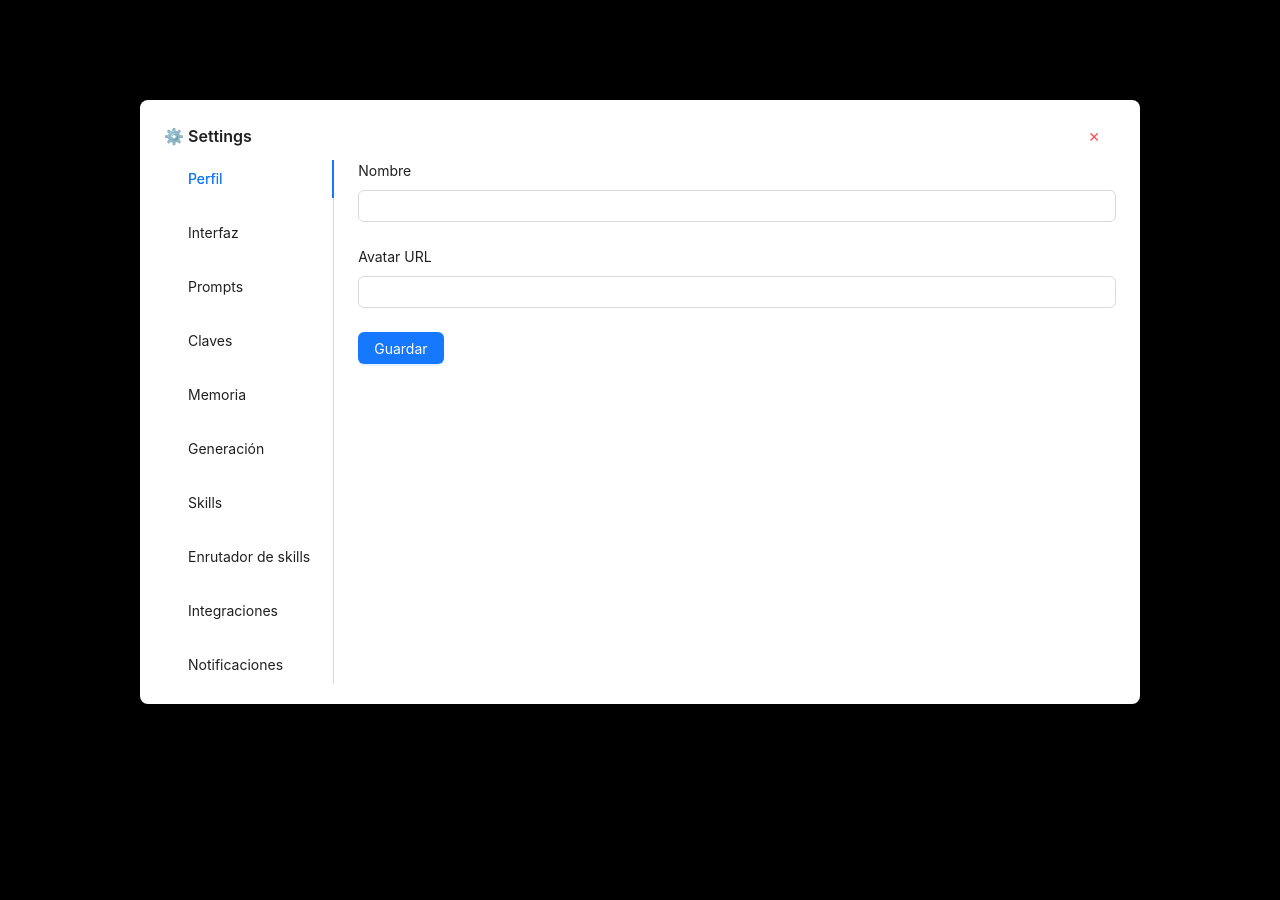
Test: SettingsDialog › shows journal_prompt when opening the Journal sub-tab
This screenshot has width=1280, height=900.
Click the tab "Prompts": x=216, y=287 [188,276,243,298]
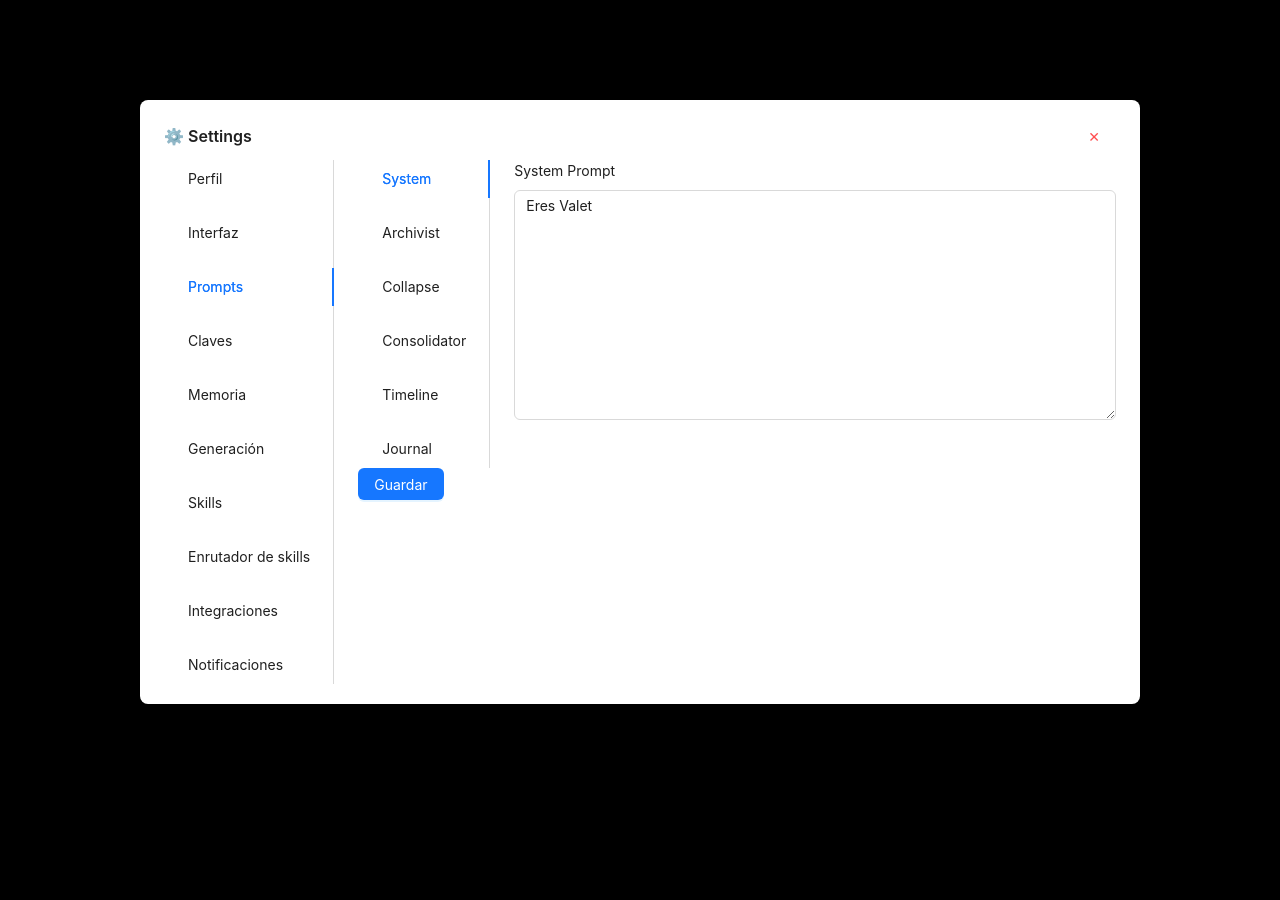
Click the tab "Journal": x=407, y=449 [382,438,432,460]
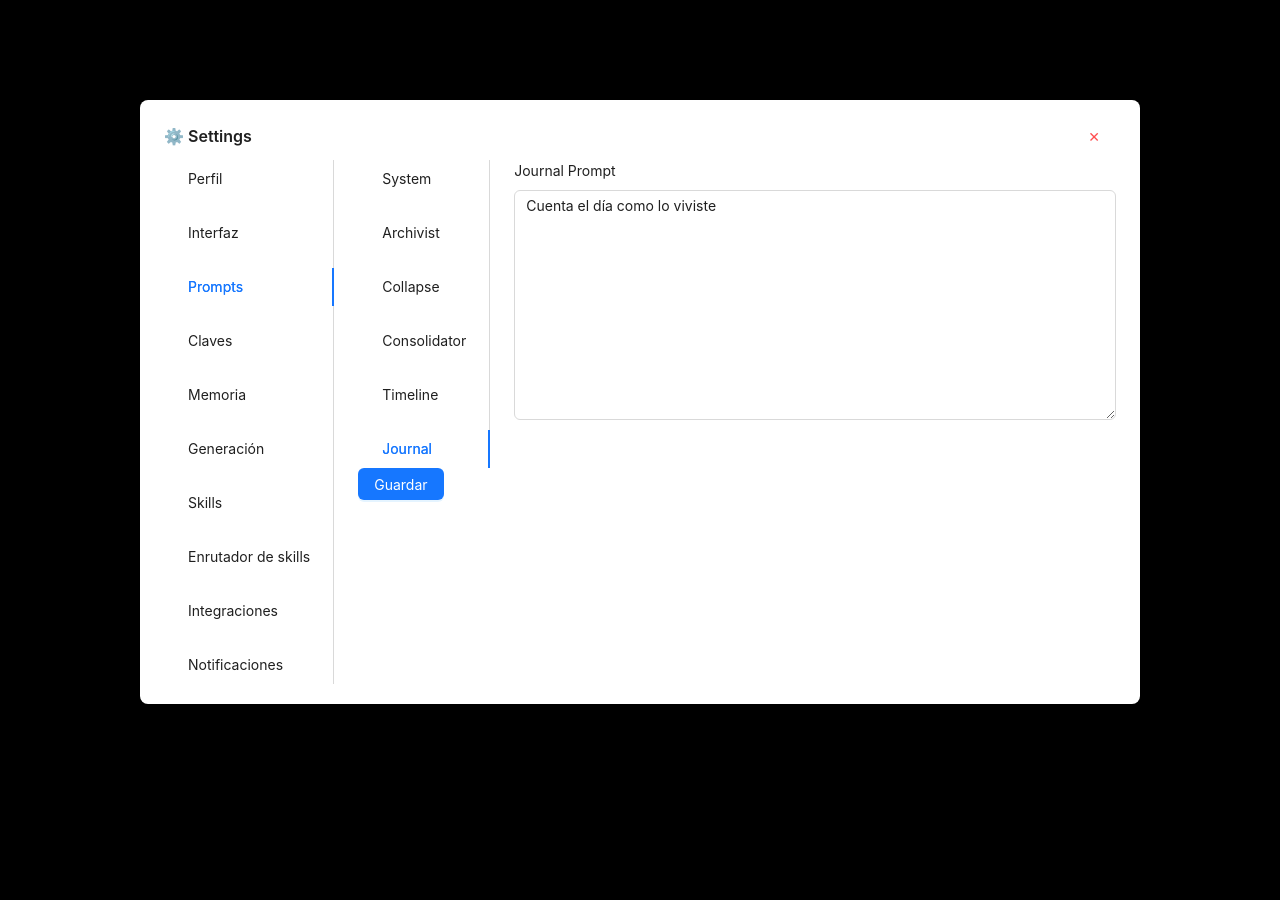
Expected: the text box labelled "Journal Prompt" holds "Cuenta el día como lo viviste", [514,190,1116,420]
